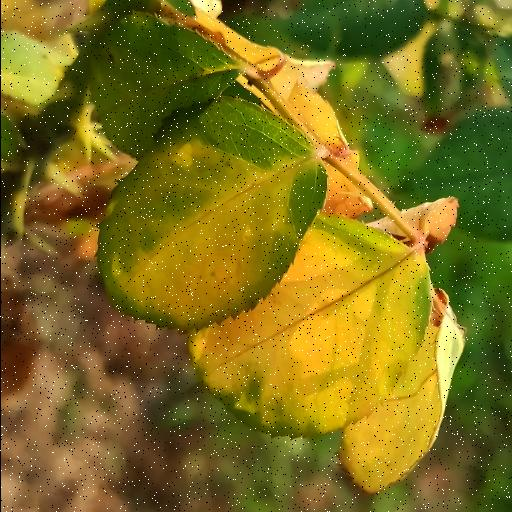healthy_leaf: (90, 13, 239, 156)
thrip: (188, 213, 430, 437), (97, 96, 326, 330), (337, 290, 464, 492), (400, 198, 458, 254), (366, 216, 405, 241)
